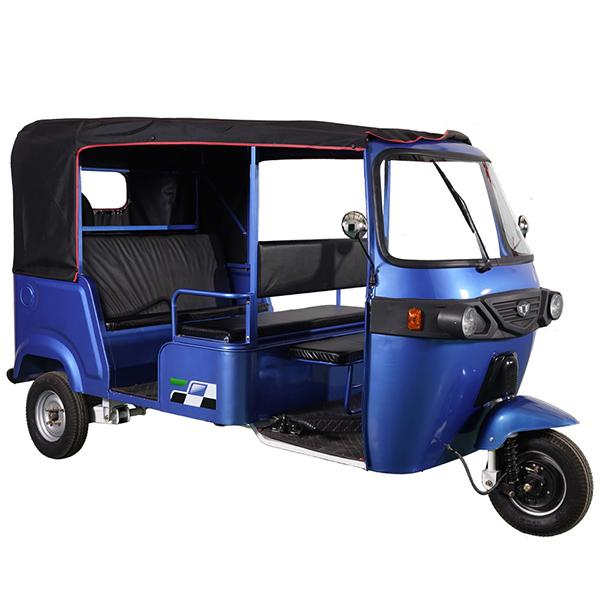threewheel: (5, 115, 594, 537)
